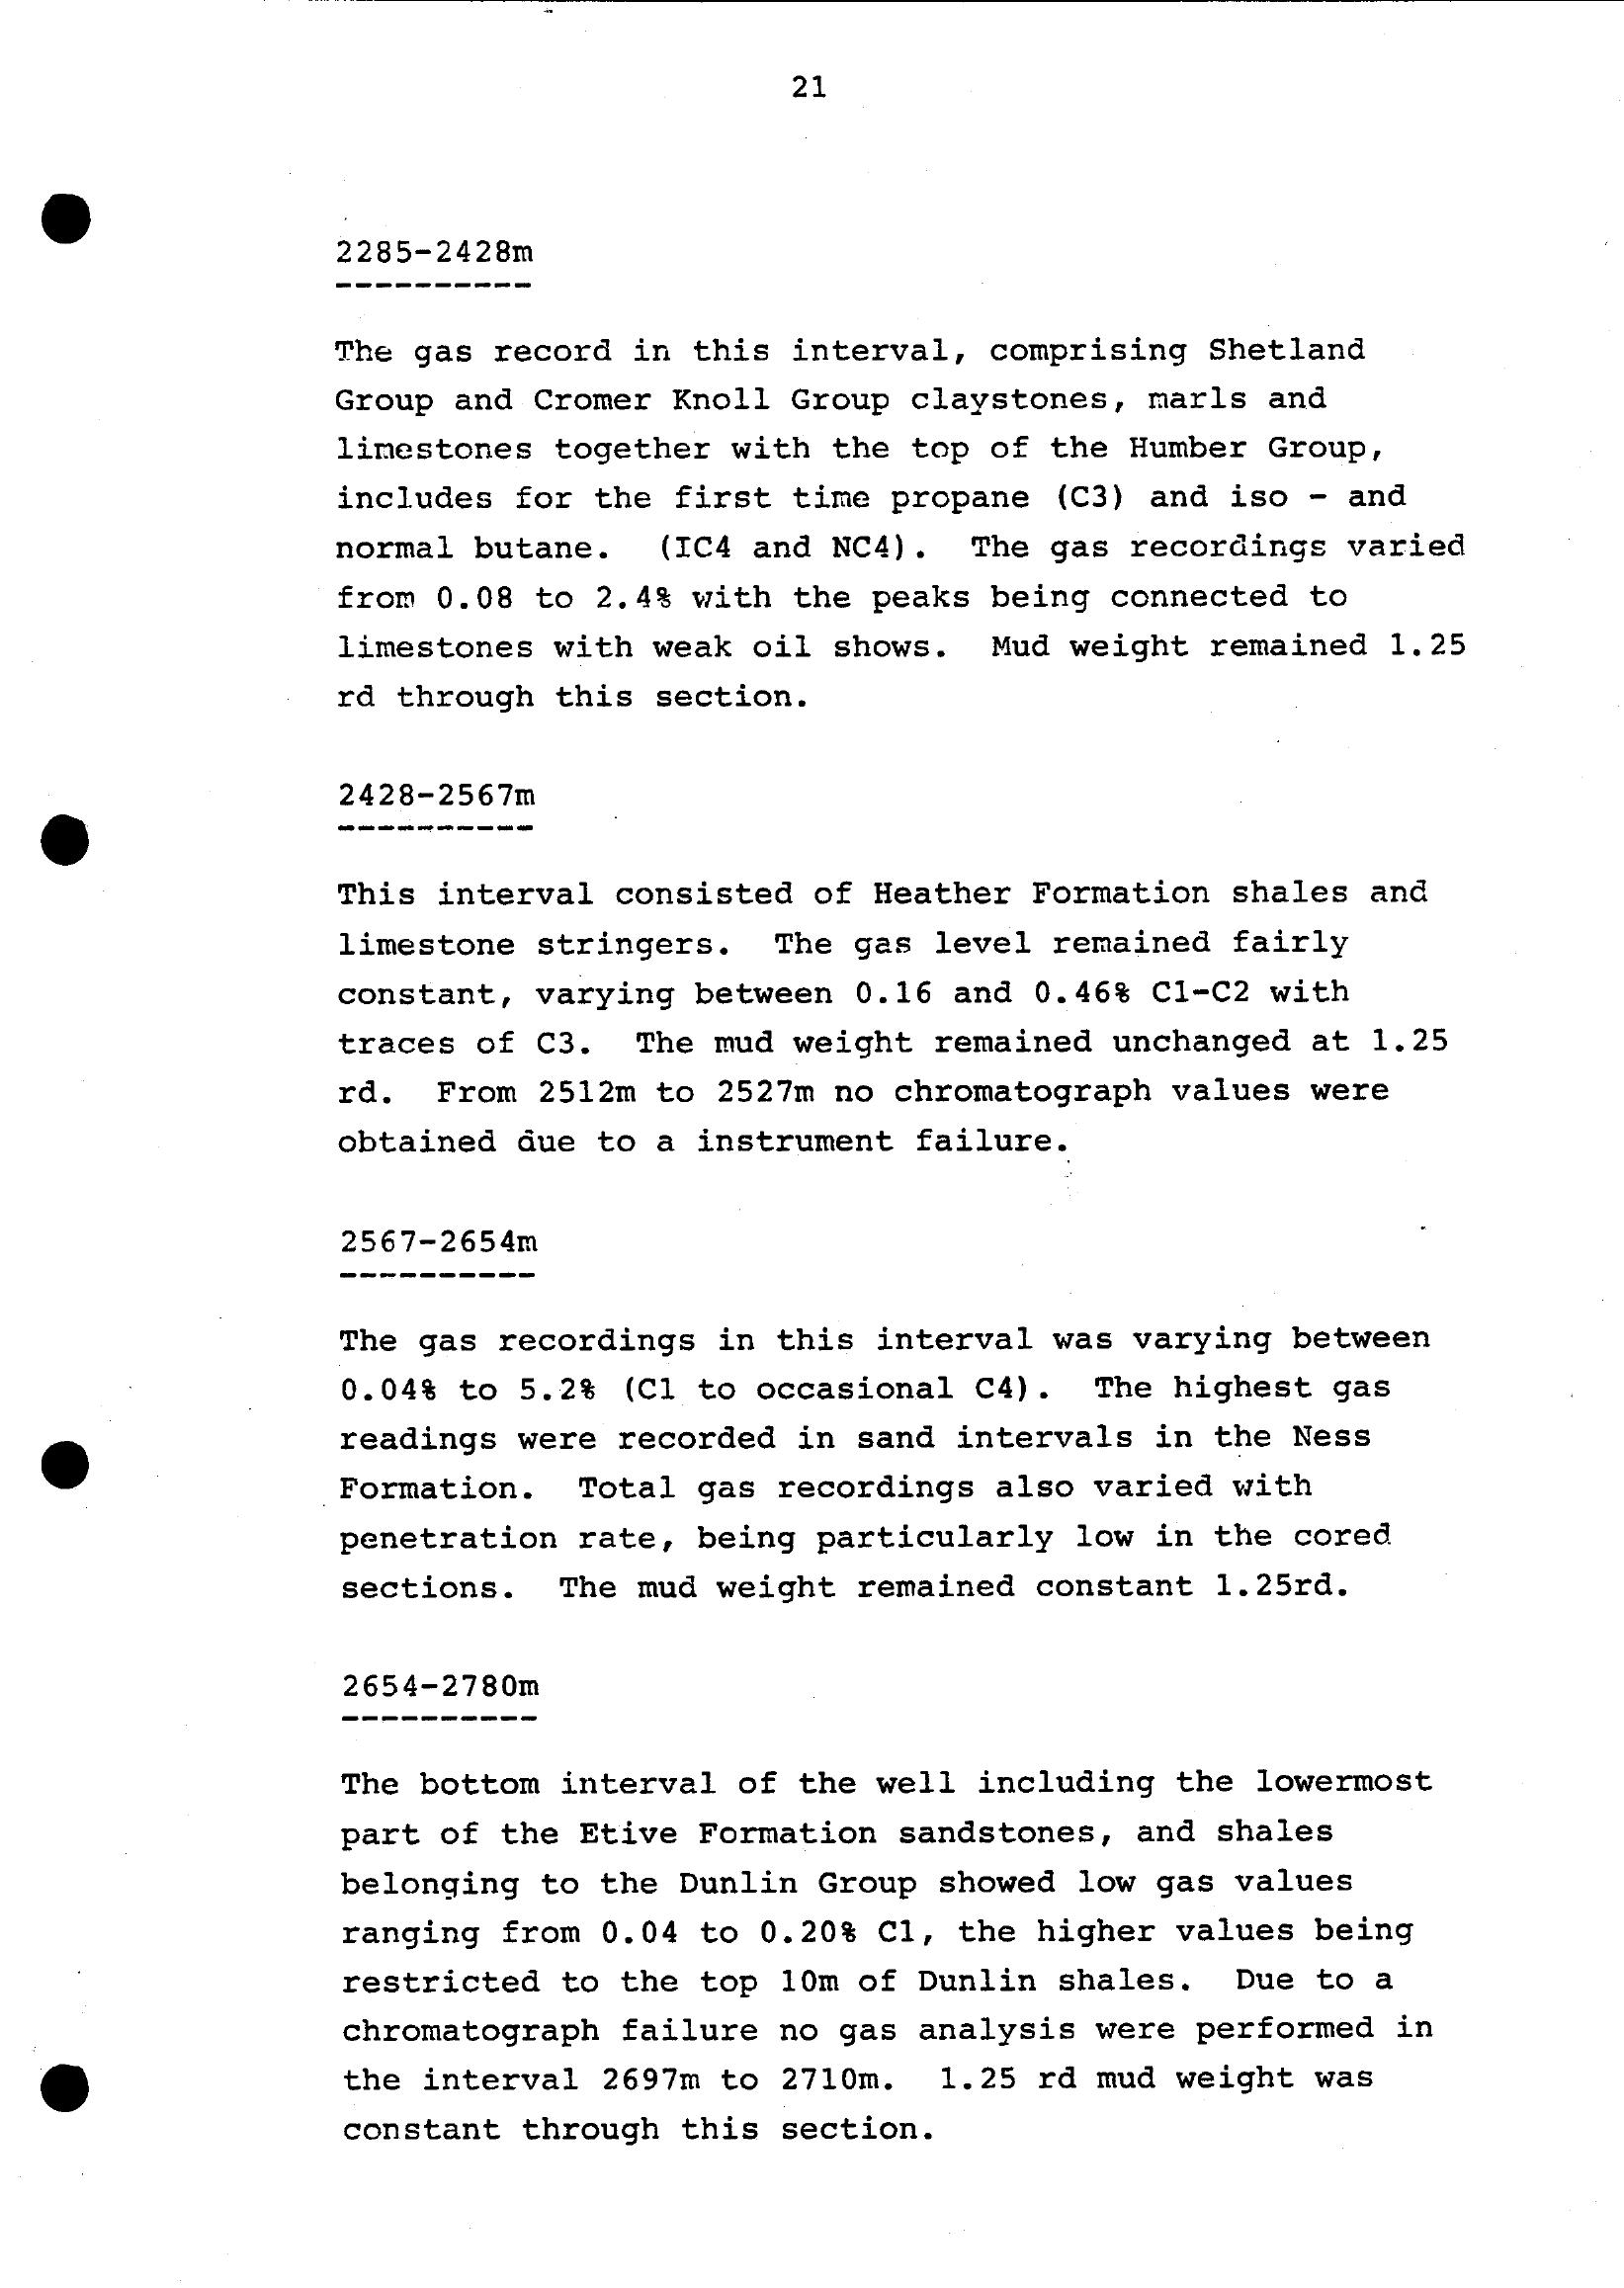text: (286, 170, 1512, 2226)
